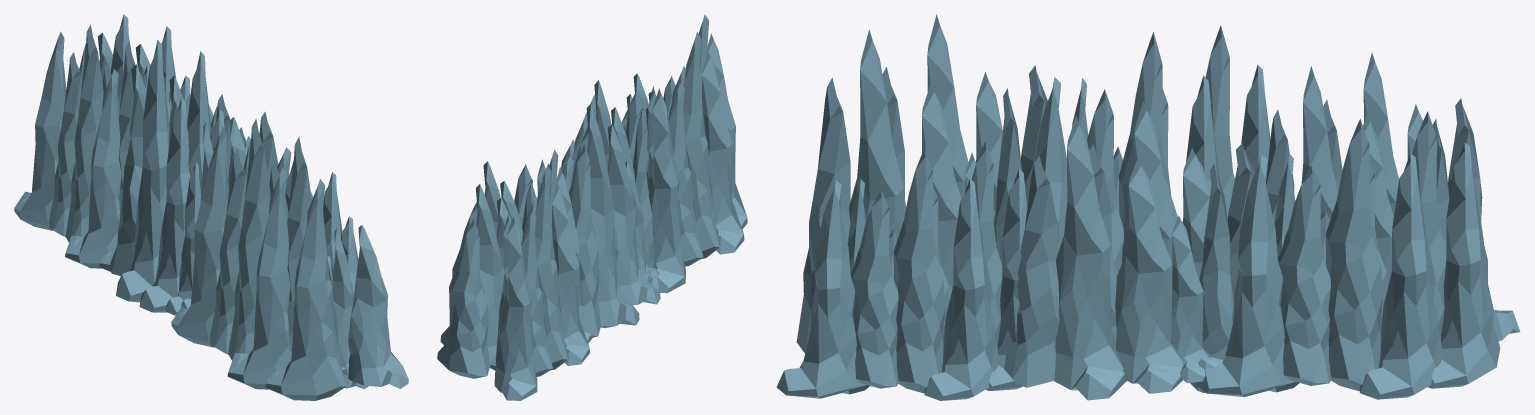
Rendered from Barrierepics.fbx.
3 views of the same model, side by side, from view 1: azimuth 30°, elevation 25°; view 2: azimuth 150°, elevation 25°; view 3: azimuth 270°, elevation 25° (orthographic). The views are drawn at different scales.
Parts seen in each view (by area): view 1: Stalactite01.039; view 2: Stalactite01.039; view 3: Stalactite01.039.
Boxes of the visible parts, x1=… form: Stalactite01.039: x1=14, y1=14, x2=408, y2=400; Stalactite01.039: x1=437, y1=14, x2=747, y2=400; Stalactite01.039: x1=776, y1=14, x2=1520, y2=400.
Size of the model in its own units: 1318 by 2309 by 4501.
